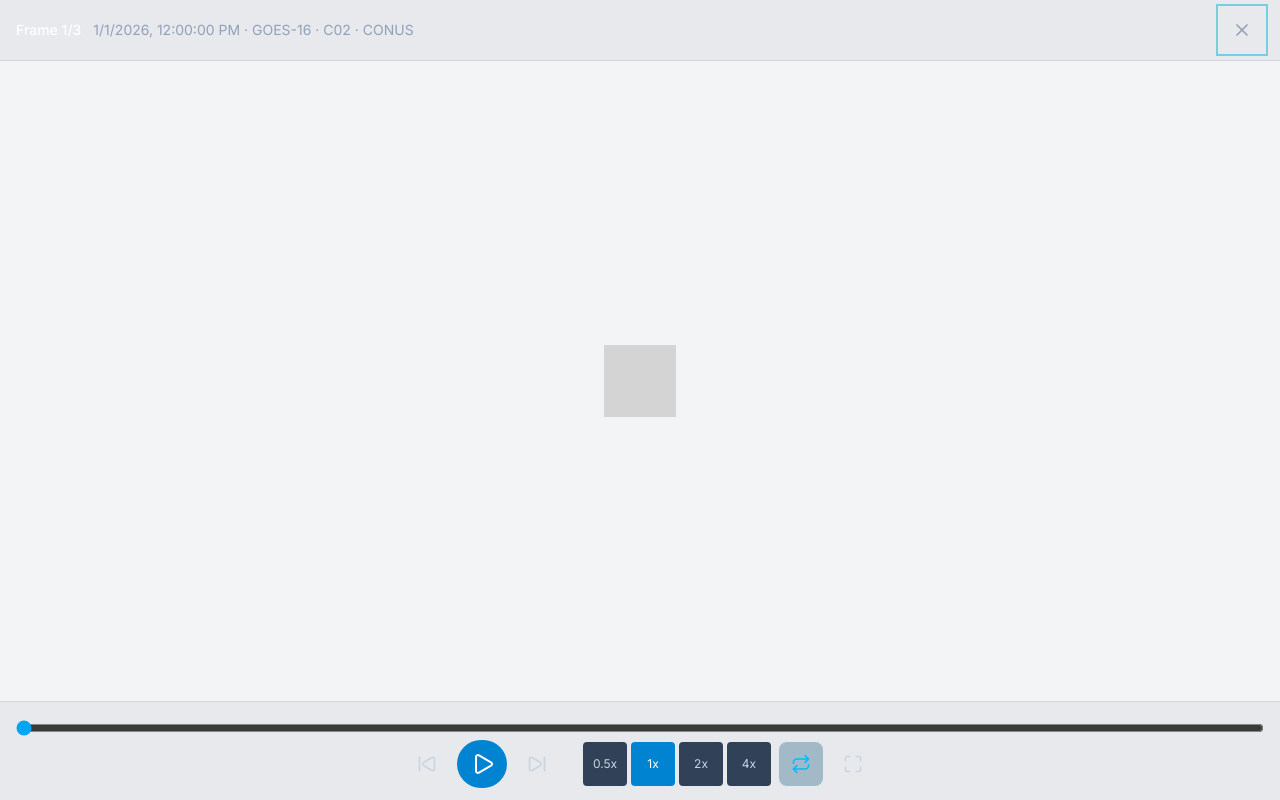
Test case: AnimationPlayer › toggles play/pause
Click the button named "Play".
click(482, 764)  # box [457,740,507,788]
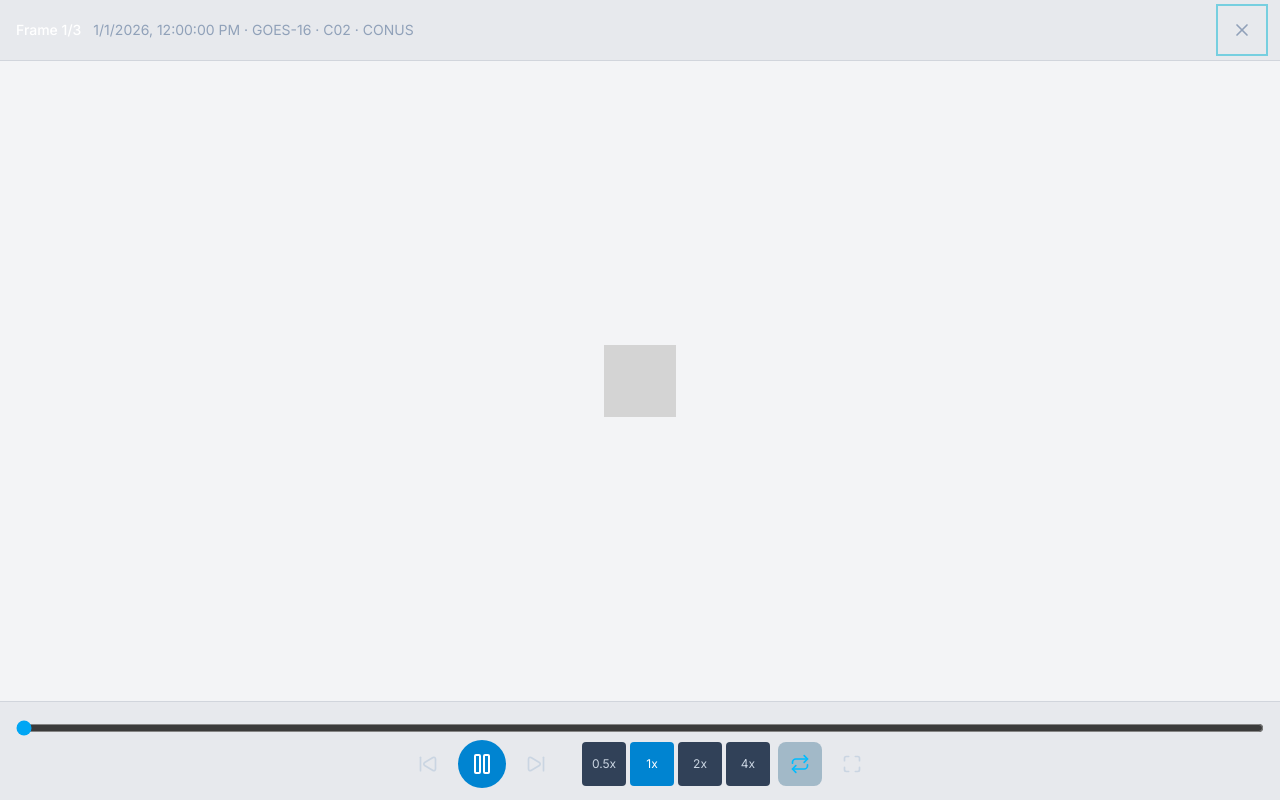
expect the button named "Pause" is shown: met
Click the button named "Pause".
click(482, 764)  # box [458,740,506,788]
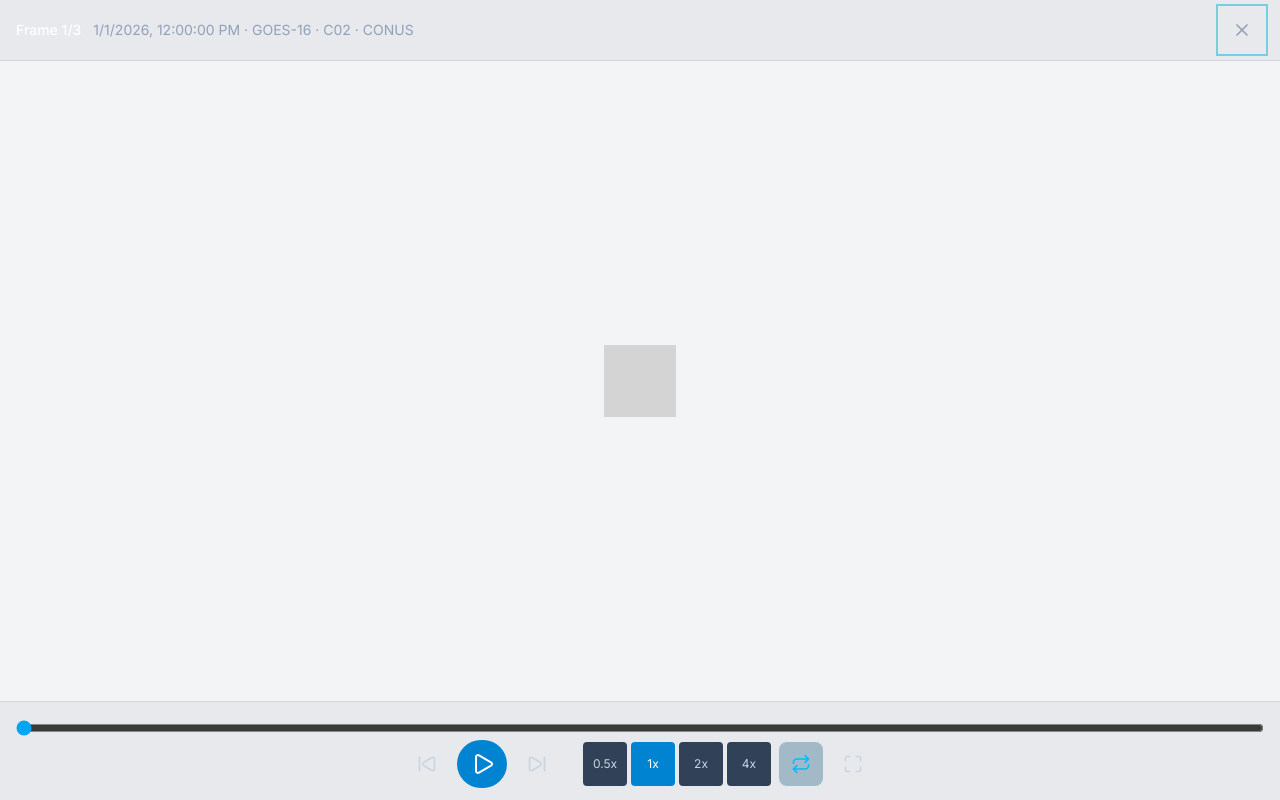
expect the button named "Play" is shown: met, box [457,740,507,788]
